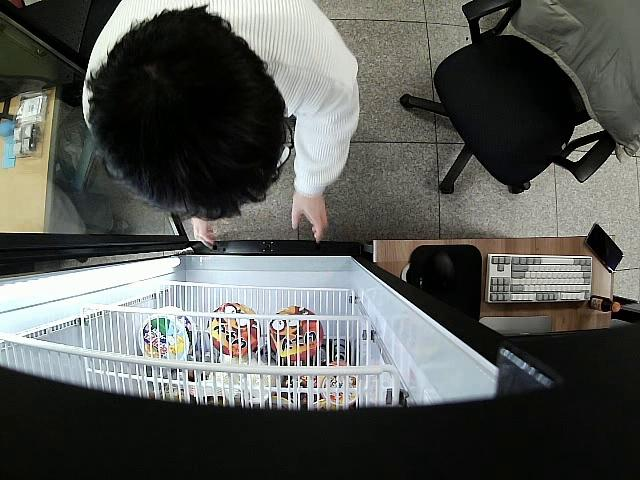00_hand: (289, 190, 332, 248), (189, 219, 221, 252)
